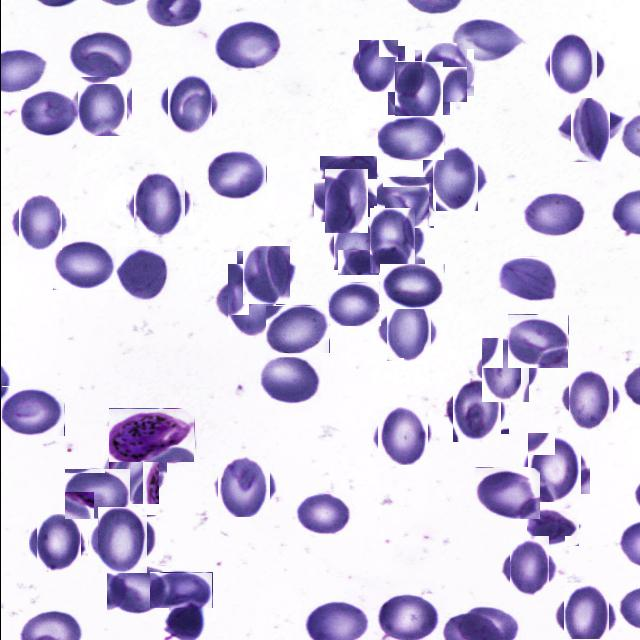gametocyte: (108, 408, 194, 462)
red blood cell: (522, 436, 584, 498), (212, 18, 282, 71), (128, 175, 188, 235), (221, 270, 281, 330), (474, 467, 540, 519), (64, 468, 130, 519), (104, 442, 162, 500), (93, 512, 151, 570), (506, 314, 568, 368), (450, 20, 522, 66), (68, 30, 134, 80), (52, 238, 115, 290), (544, 37, 601, 94), (214, 458, 272, 514), (447, 382, 504, 438), (373, 176, 434, 228), (1, 386, 64, 436), (477, 342, 533, 398), (208, 147, 266, 201), (258, 358, 320, 408), (265, 305, 329, 353), (106, 566, 168, 614), (364, 214, 419, 268), (427, 152, 482, 206), (374, 409, 429, 463), (390, 64, 445, 118), (379, 264, 444, 309), (381, 304, 435, 358), (562, 100, 616, 154), (74, 80, 128, 134), (318, 174, 372, 228), (558, 588, 614, 640), (377, 116, 443, 160), (521, 194, 586, 238), (564, 373, 616, 428), (319, 156, 376, 206), (497, 257, 557, 304), (115, 247, 168, 300), (239, 248, 292, 301), (329, 220, 382, 272), (162, 78, 215, 130), (418, 47, 470, 99), (20, 90, 78, 136), (32, 518, 83, 568), (504, 542, 554, 593), (14, 198, 64, 248), (295, 494, 351, 535), (328, 282, 380, 326), (149, 572, 212, 608), (355, 43, 401, 89), (526, 508, 579, 546)
